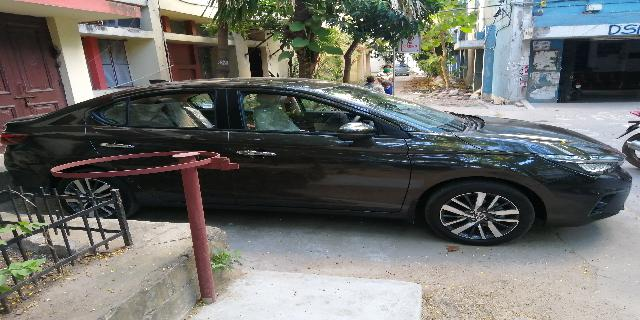Car: (5, 75, 631, 247)
